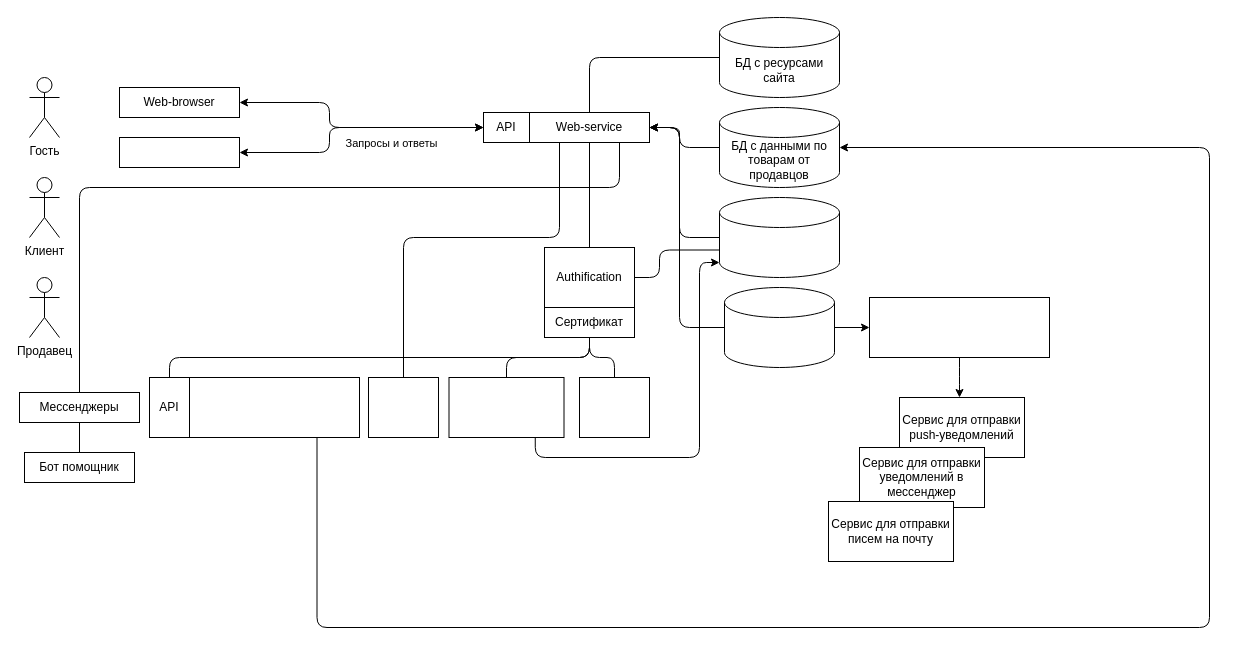
This 1235x653 diagram has some shape labels left out. Each missing label, with the centre of its shape:
"БД пользователей и статистики по ним" belongs at [779,237].
"БД с сообщениями для рассылки" belongs at [779,327].
"Онлайн карта" belongs at [403,407].
"Очередь на отправку сообщений/уведомлений" belongs at [959,327].
"Платежная система" belongs at [614,407].
"Приложение" belongs at [179,152].
"Сервис сбора данных" belongs at [506,407].
"Хранилище данных стороннего интернет магазина" belongs at [274,407].
